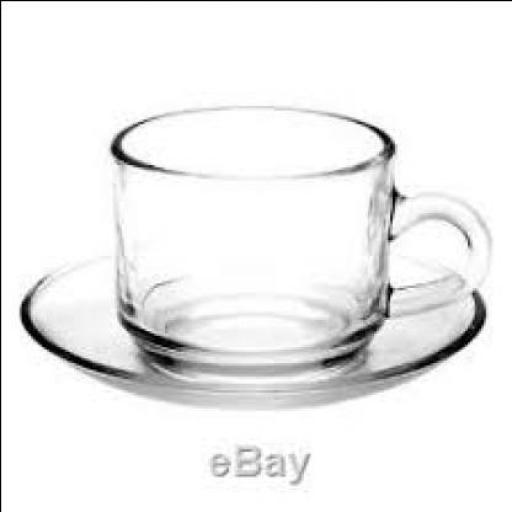glass: (107, 100, 487, 364), (18, 241, 482, 399)
